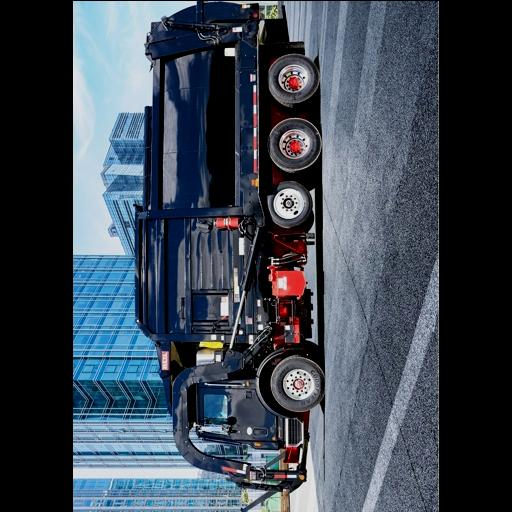truck: (130, 1, 325, 511)
